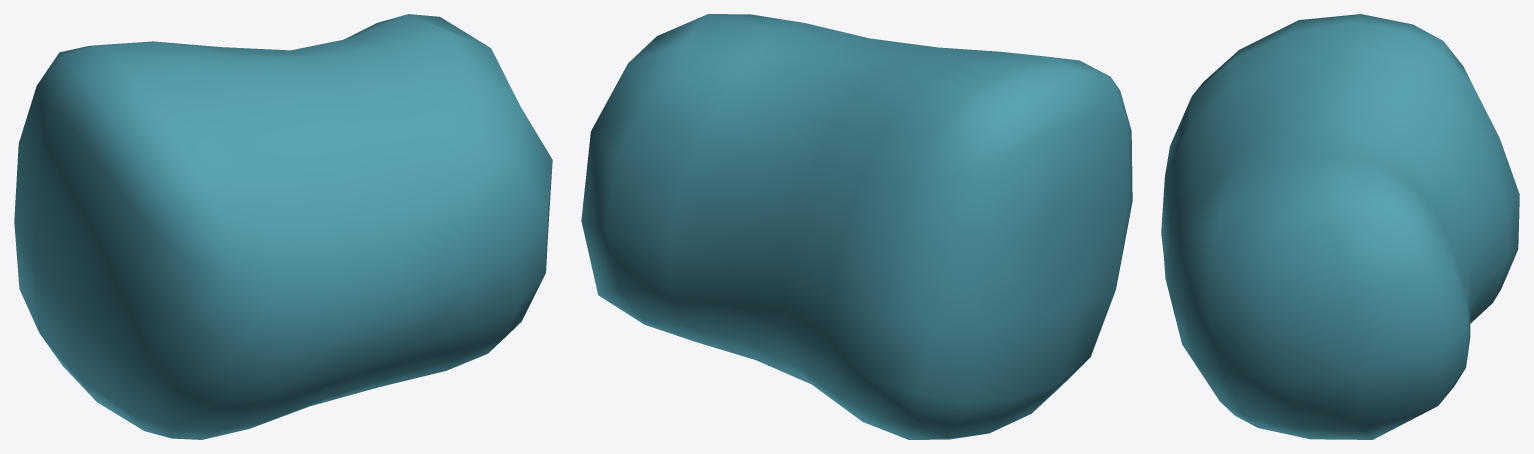
Rendered from VIS_Alpha_Surface_020.dae.
The picture shows the model from 3 angles, left to right: view 1: azimuth 30°, elevation 25°; view 2: azimuth 150°, elevation 25°; view 3: azimuth 270°, elevation 25°; orthographic projection. The views are drawn at different scales.
Visible parts, largest first — view 1: VIS_Alpha_Surface_020; view 2: VIS_Alpha_Surface_020; view 3: VIS_Alpha_Surface_020.
Boxes of the visible parts, <box> form: VIS_Alpha_Surface_020: <box>14,14,552,439</box>; VIS_Alpha_Surface_020: <box>581,14,1132,439</box>; VIS_Alpha_Surface_020: <box>1161,14,1519,439</box>.
Size of the model in its own units: 3.65 by 2.91 by 2.67.
